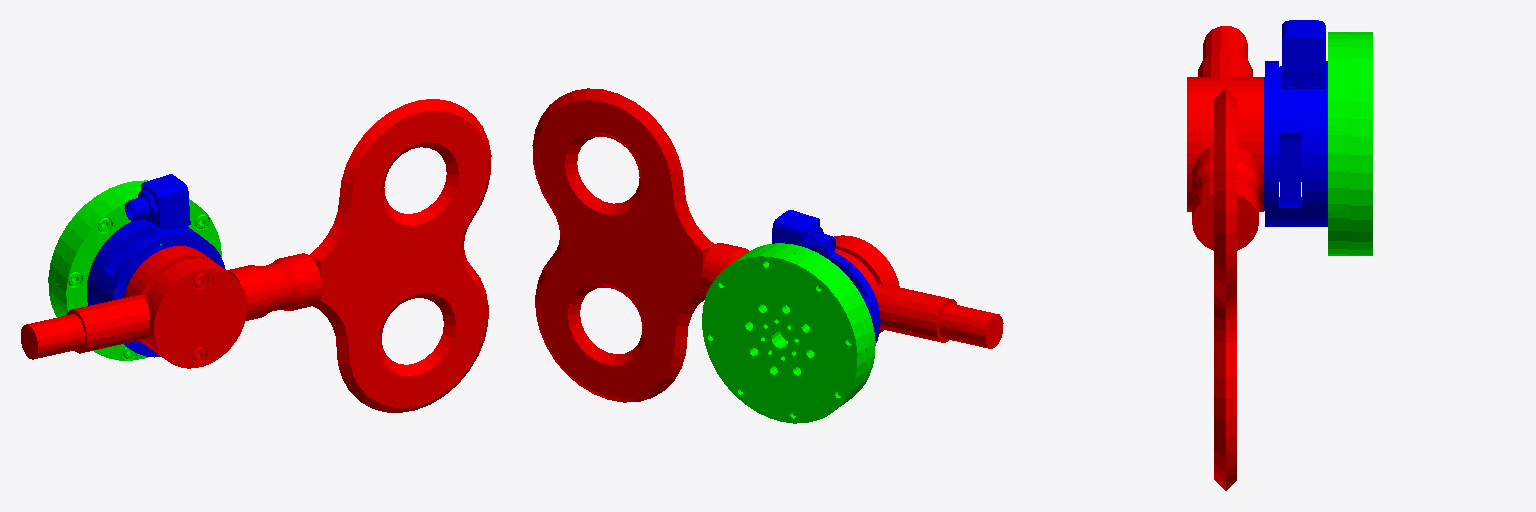
The robot description file, URDF, robot "tool_tms2":
<robot
  name="tool_tms2">
  <link
    name="flange_link">
    <inertial>
      <origin
        xyz="-2.7886E-05 -0.00014096 0.010059"
        rpy="0 0 0" />
      <mass
        value="0.1483" />
      <inertia
        ixx="6.5965E-06"
        ixy="1.8314E-07"
        ixz="1.3017E-08"
        iyy="7.486E-06"
        iyz="6.5797E-08"
        izz="6.7095E-06" />
    </inertial>
    <visual>
      <origin
        xyz="0 0 0"
        rpy="0 0 0" />
      <geometry>
        <mesh
          filename="package://tool_tms2/meshes/flange_link.STL" />
      </geometry>
      <material
        name="">
        <color
          rgba="0 1 0 1" />
      </material>
    </visual>
    <collision>
      <origin
        xyz="0 0 0"
        rpy="0 0 0" />
      <geometry>
        <mesh
          filename="package://tool_tms2/meshes/flange_link.STL" />
      </geometry>
    </collision>
  </link>
  <link
    name="force_Link">
    <inertial>
      <origin
        xyz="0.0074099 0.0014123 -0.0020129"
        rpy="0 0 0" />
      <mass
        value="0.071157" />
      <inertia
        ixx="3.1053E-06"
        ixy="-4.0417E-06"
        ixz="-2.6779E-06"
        iyy="2.36E-05"
        iyz="-5.6239E-07"
        izz="2.2862E-05" />
    </inertial>
    <visual>
      <origin
        xyz="0 0 0"
        rpy="0 0 0" />
      <geometry>
        <mesh
          filename="package://tool_tms2/meshes/force_Link.STL" />
      </geometry>
      <material
        name="">
        <color
          rgba="0 0 1 1" />
      </material>
    </visual>
    <collision>
      <origin
        xyz="0 0 0"
        rpy="0 0 0" />
      <geometry>
        <mesh
          filename="package://tool_tms2/meshes/force_Link.STL" />
      </geometry>
    </collision>
  </link>
  <joint
    name="flange"
    type="fixed">
    <origin
      xyz="0 -0.034 0"
      rpy="1.5708 -1.5043 3.1416" />
    <parent
      link="flange_link" />
    <child
      link="force_Link" />
    <axis
      xyz="0 0 0" />
  </joint>
  <link
    name="tms_Link">
    <inertial>
      <origin
        xyz="-1.0713E-10 0.0095121 -0.063036"
        rpy="0 0 0" />
      <mass
        value="0.27445" />
      <inertia
        ixx="0.001356"
        ixy="-2.0876E-10"
        ixz="1.8499E-12"
        iyy="0.0013498"
        iyz="-2.0995E-07"
        izz="7.4545E-06" />
    </inertial>
    <visual>
      <origin
        xyz="0 0 0"
        rpy="0 0 0" />
      <geometry>
        <mesh
          filename="package://tool_tms2/meshes/tms_Link.STL" />
      </geometry>
      <material
        name="">
        <color
          rgba="1 0 0 1" />
      </material>
    </visual>
    <collision>
      <origin
        xyz="0 0 0"
        rpy="0 0 0" />
      <geometry>
        <mesh
          filename="package://tool_tms2/meshes/tms_Link.STL" />
      </geometry>
    </collision>
  </link>
  <joint
    name="force_tms"
    type="fixed">
    <origin
      xyz="0 0 -0.0221"
      rpy="-1.5708 -5.9611E-17 -3.0556" />
    <parent
      link="force_Link" />
    <child
      link="tms_Link" />
    <axis
      xyz="0 0 0" />
  </joint>
</robot>

--- What the picture shows (computed from the rendered views, not written in the file) ---
3 views of the same robot in one strip: view 1: azimuth 30°, elevation 25°; view 2: azimuth 150°, elevation 25°; view 3: azimuth 270°, elevation 25° (orthographic).
Model tool_tms2 with 3 links and 2 joints (2 fixed), rooted at flange_link, posed every joint at zero.
Visible links, largest first — view 1: tms_Link, force_Link, flange_link; view 2: tms_Link, flange_link, force_Link; view 3: tms_Link, force_Link, flange_link.
Link boxes in pixels (left/top/right/bottom): tms_Link: left=21, top=99, right=491, bottom=412; force_Link: left=87, top=174, right=225, bottom=357; flange_link: left=48, top=180, right=221, bottom=360; tms_Link: left=532, top=88, right=1003, bottom=402; flange_link: left=702, top=243, right=875, bottom=423; force_Link: left=772, top=210, right=880, bottom=345; tms_Link: left=1187, top=26, right=1263, bottom=490; force_Link: left=1264, top=20, right=1327, bottom=226; flange_link: left=1328, top=32, right=1372, bottom=255.
Bounding box of the posed robot: 0.2967 × 0.0826 × 0.1896 m (x, y, z).
3 mesh visuals loaded from 3 distinct referenced files (3 binary STL).